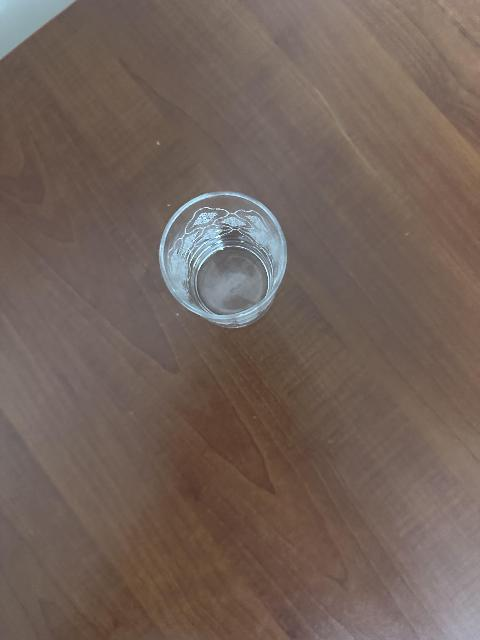Cam: (159, 192, 290, 329)
